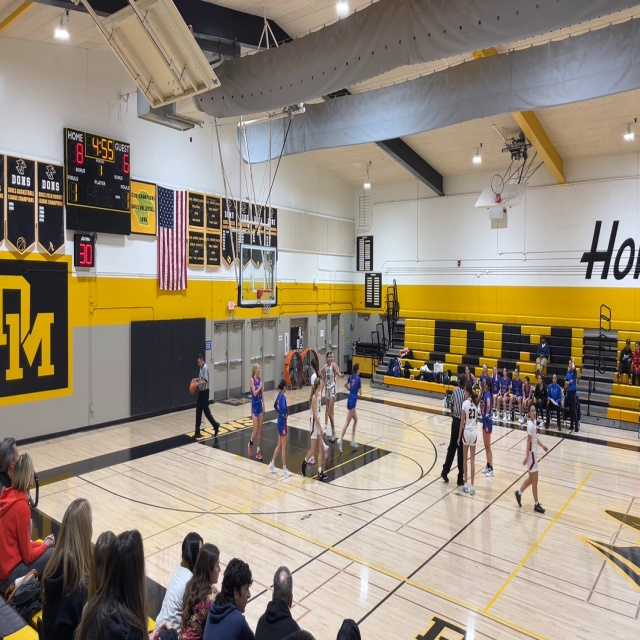Basketball: (189, 379, 197, 394)
